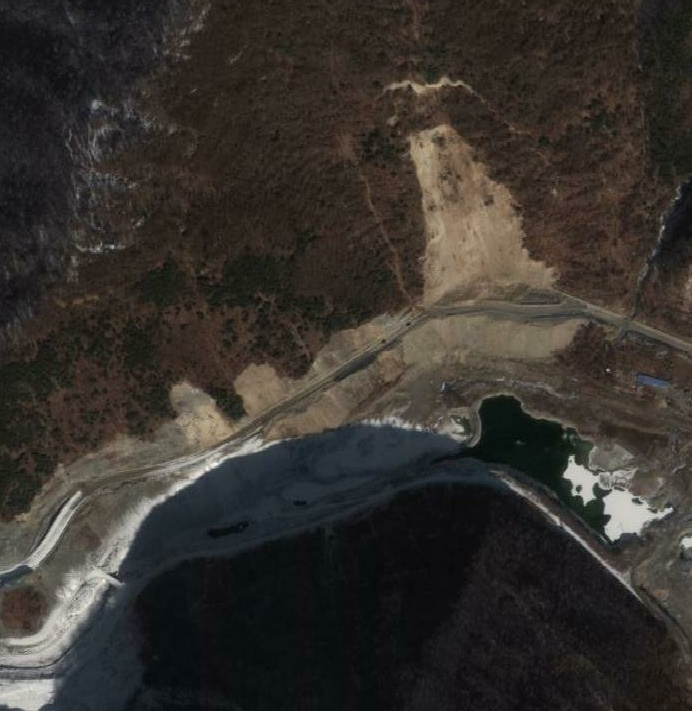slope: (0, 377, 230, 562), (401, 117, 571, 307), (230, 307, 410, 419)
